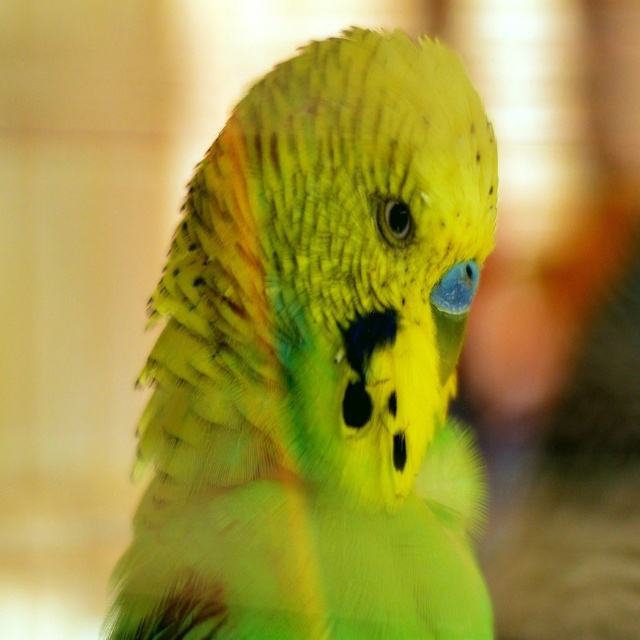Parrot: (107, 21, 499, 639)
